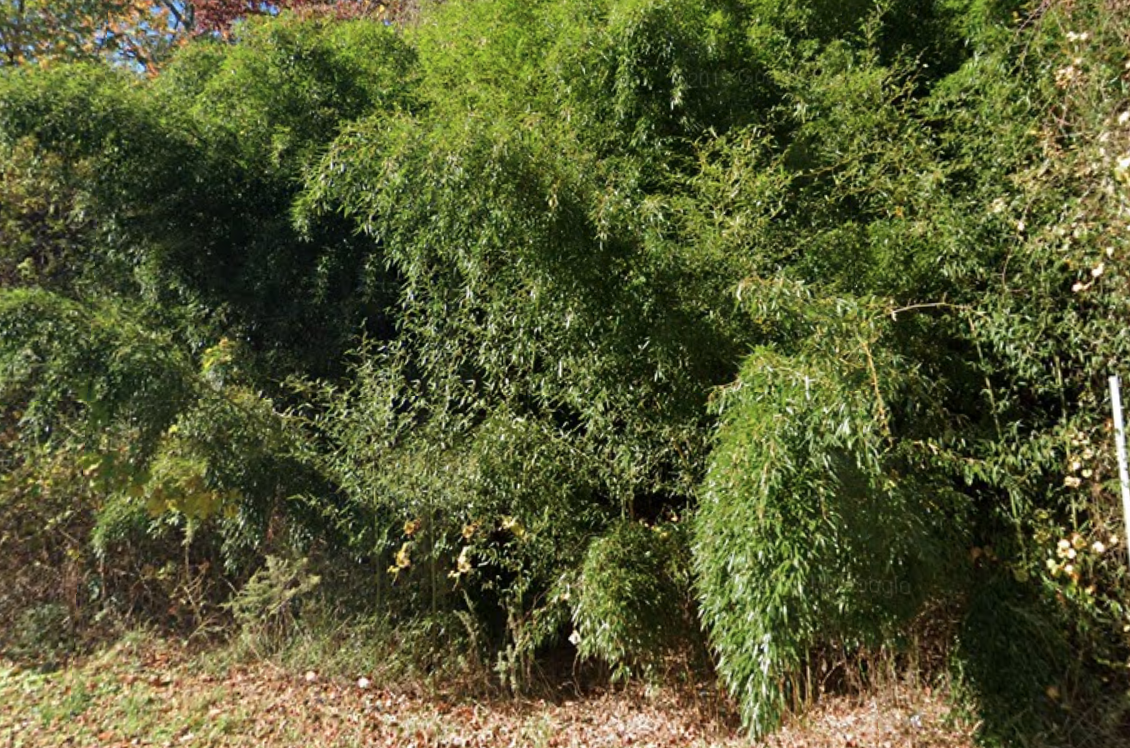bamboo: (323, 27, 974, 705), (13, 69, 333, 527)
